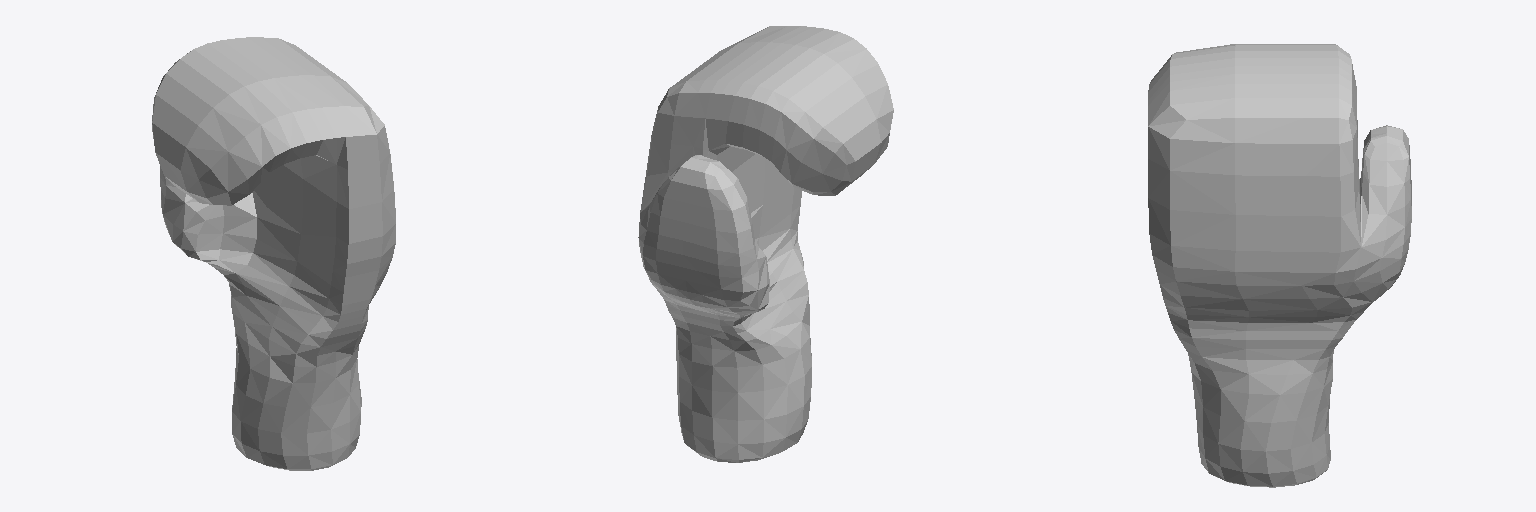
The model's file is bxglvsp(left).obj.
3 renders of one model, left to right at view 1: azimuth 30°, elevation 25°; view 2: azimuth 150°, elevation 25°; view 3: azimuth 270°, elevation 25°, orthographic.
Parts seen in each view (by area): view 1: Cube; view 2: Cube; view 3: Cube.
Boxes of the visible parts, box(x1,y1,x2,y2) form: Cube: box(152, 37, 395, 470); Cube: box(638, 26, 893, 462); Cube: box(1148, 44, 1411, 487).
Size of the model in its own units: 4.36 by 8.65 by 5.27.